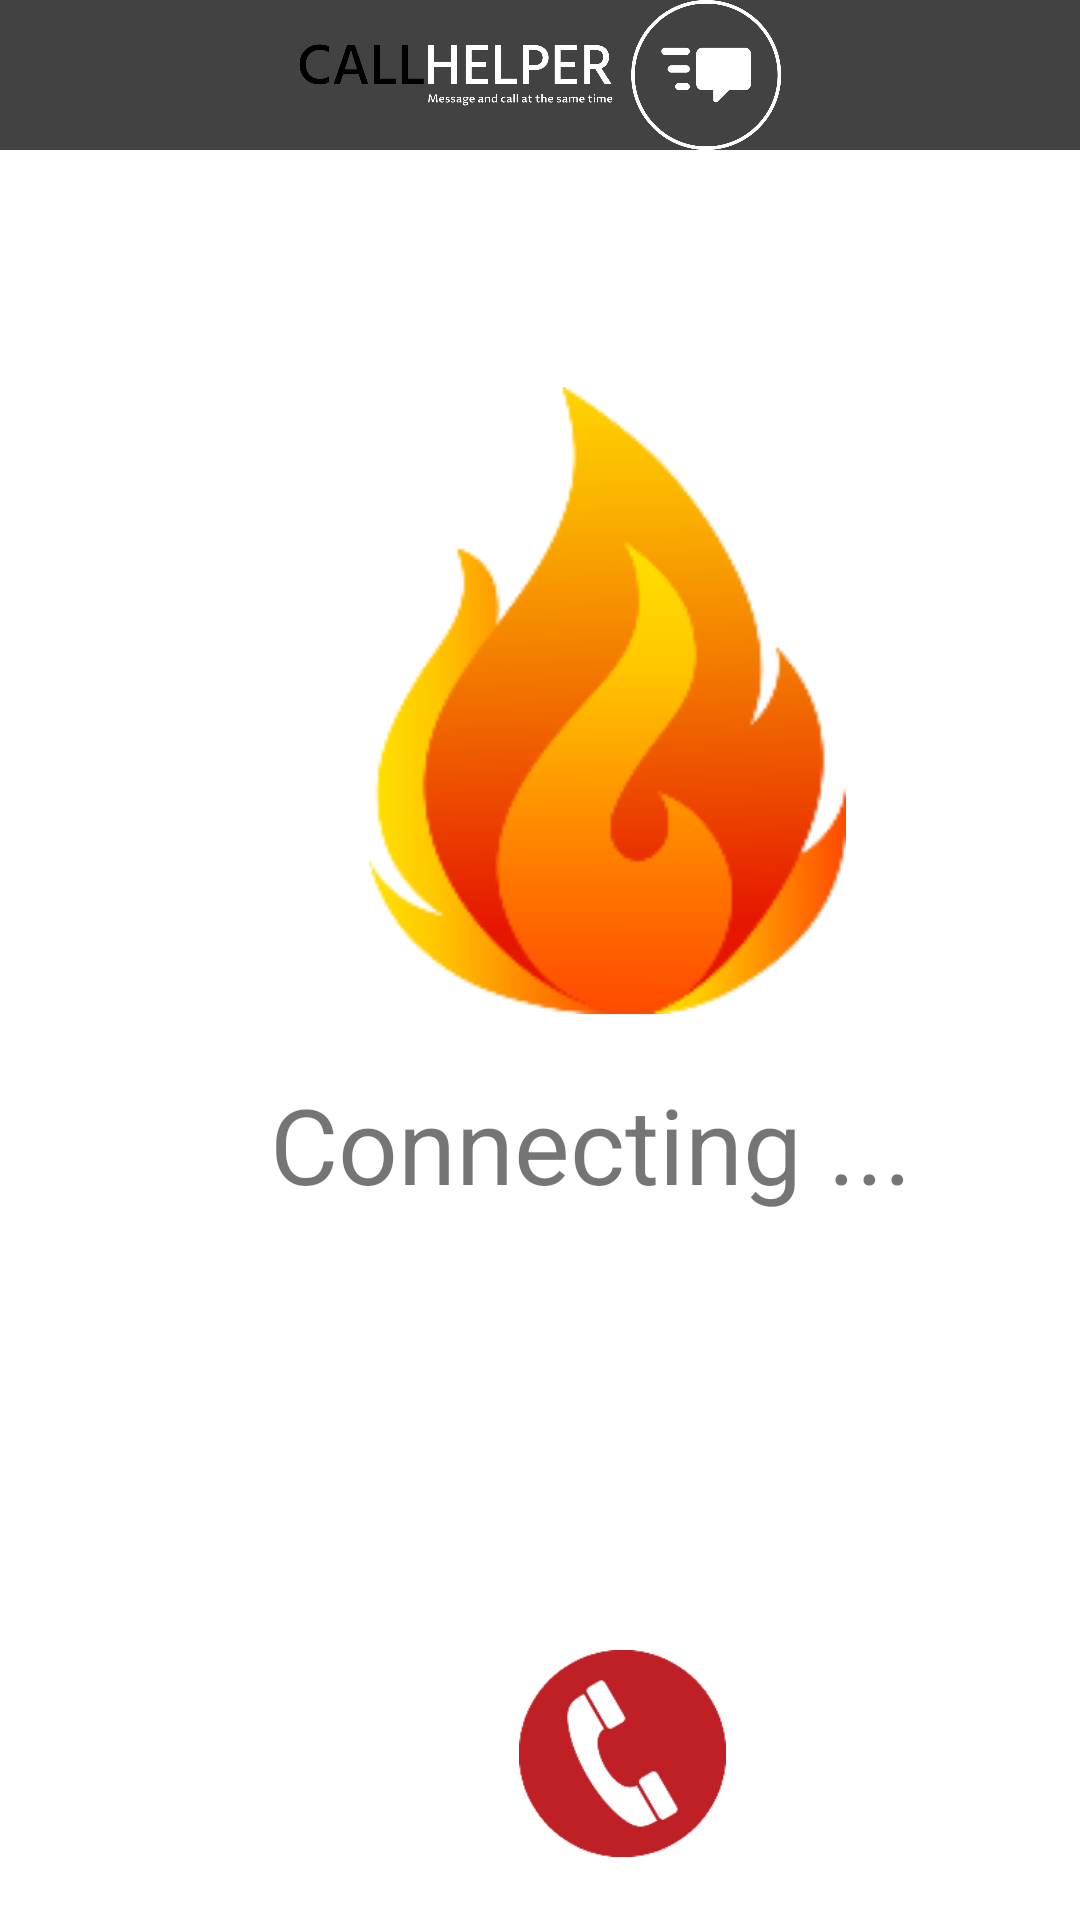

Icon bounding boxes for this 1080px×1920px phone screenshot, format (x1, y1, x2, y2):
endcall: (519, 1650, 726, 1857)
